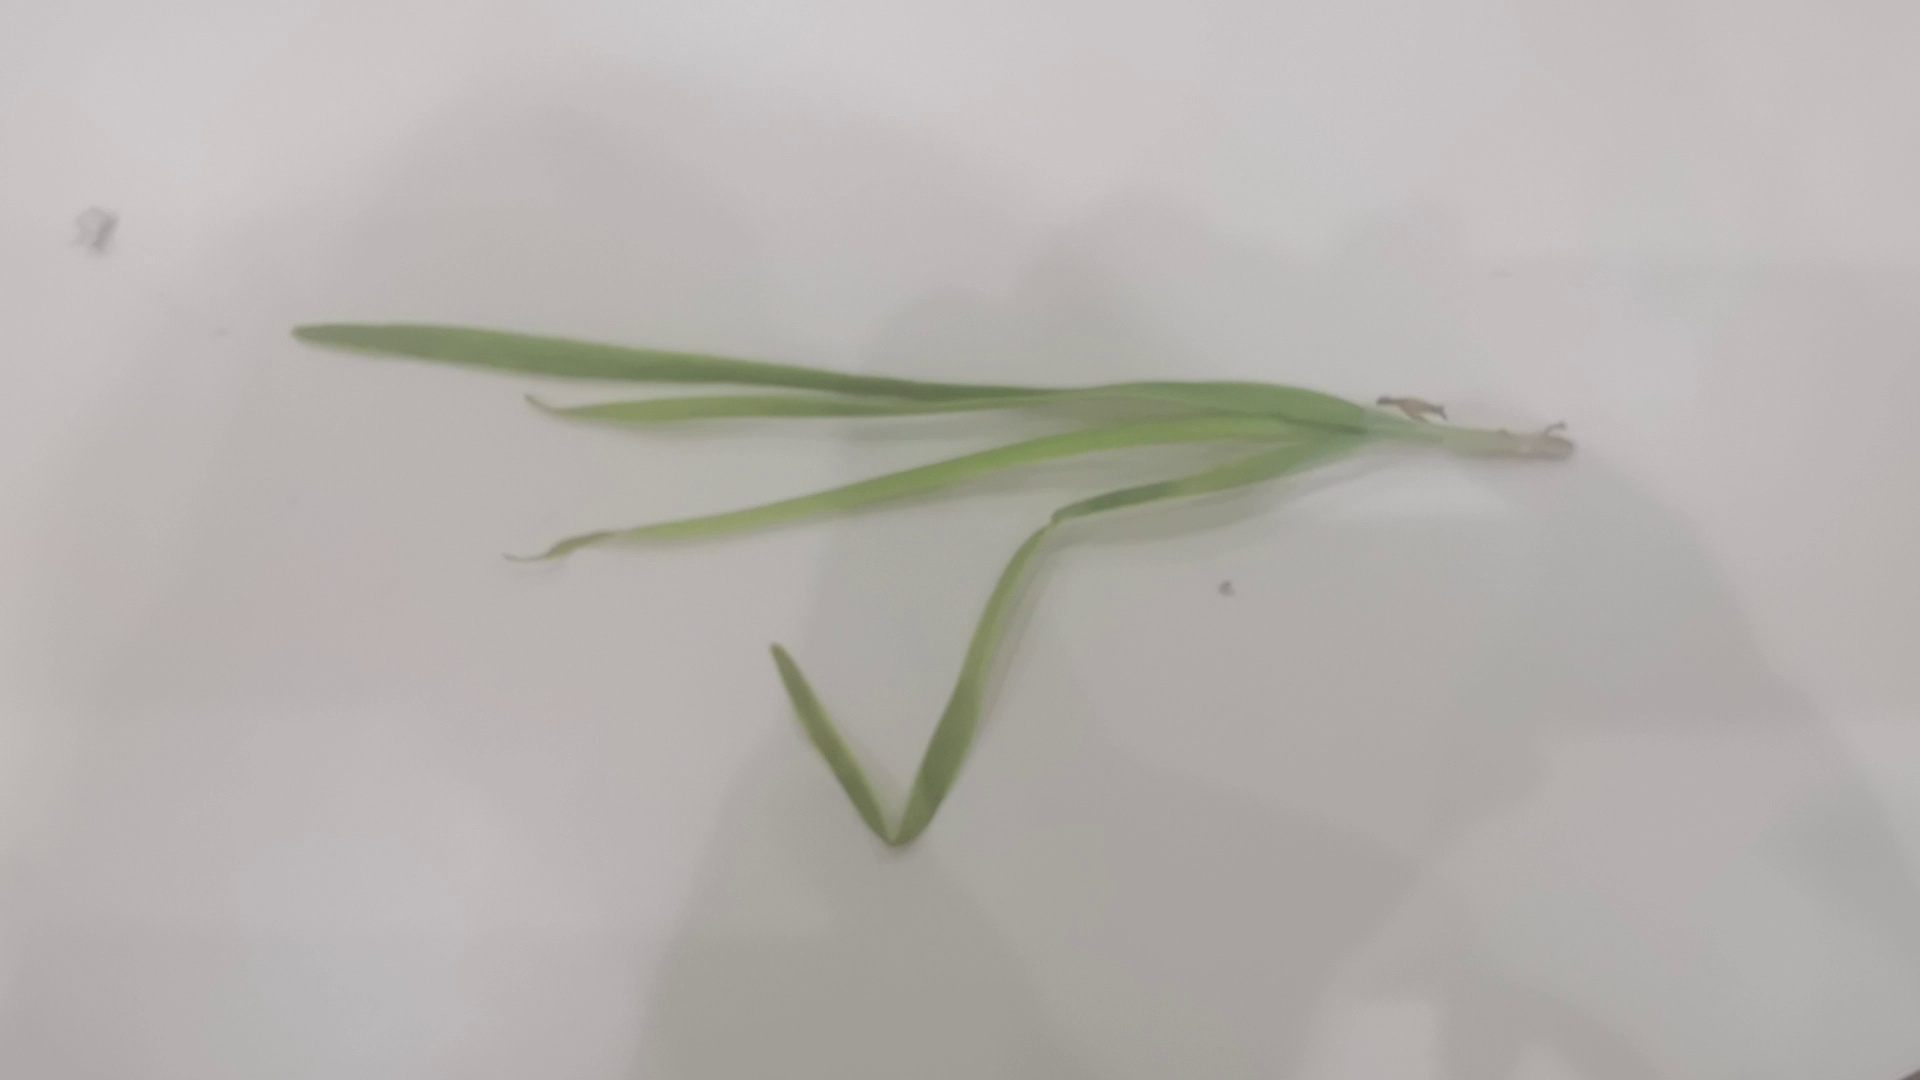chives: (290, 302, 1592, 897)
